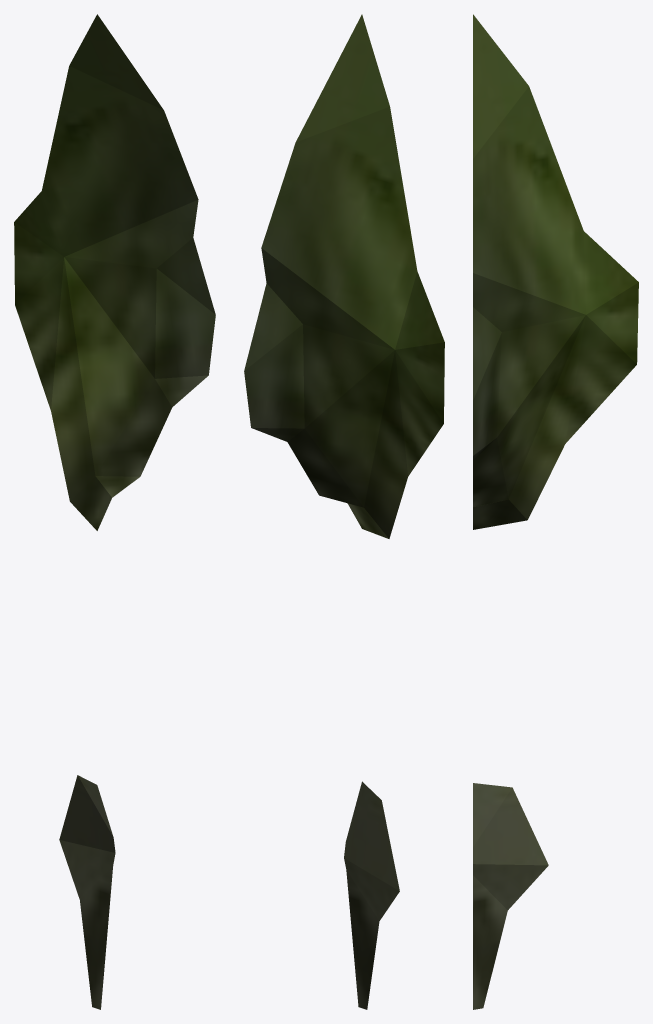
3 renders of one model, left to right at view 1: azimuth 30°, elevation 25°; view 2: azimuth 210°, elevation 25°; view 3: azimuth 270°, elevation 25°, orthographic.
Bounding box in the file's own units: 0.2623 × 2.11 × 0.3188.
1 material, 1 textured.
